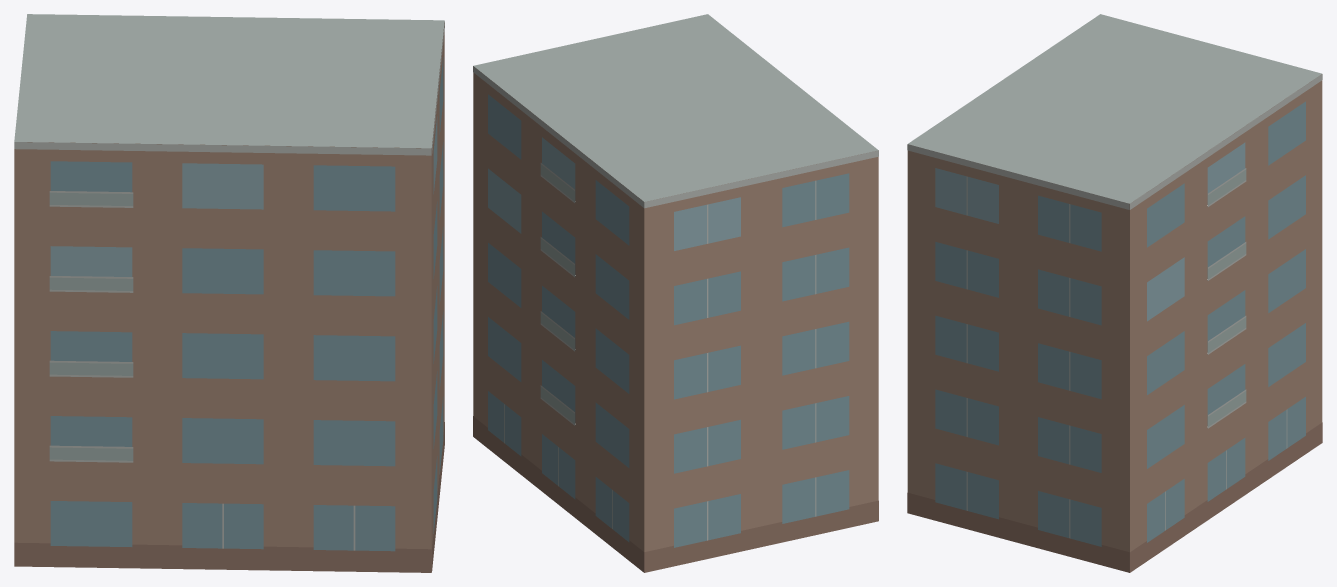
The model's file is survey-upis-32887663.glb.
3 renders of one model, left to right at view 1: azimuth 30°, elevation 25°; view 2: azimuth 150°, elevation 25°; view 3: azimuth 270°, elevation 25°, orthographic. The views are drawn at different scales.
Parts seen in each view (by area): view 1: survey-upis-32887663.tmp; view 2: survey-upis-32887663.tmp; view 3: survey-upis-32887663.tmp.
Part boxes in pixels (bbox=[...]): survey-upis-32887663.tmp: bbox=[14, 14, 444, 572]; survey-upis-32887663.tmp: bbox=[473, 14, 878, 572]; survey-upis-32887663.tmp: bbox=[907, 14, 1322, 572].
Bounding box in the file's own units: 15.67 × 14.2 × 14.48.
